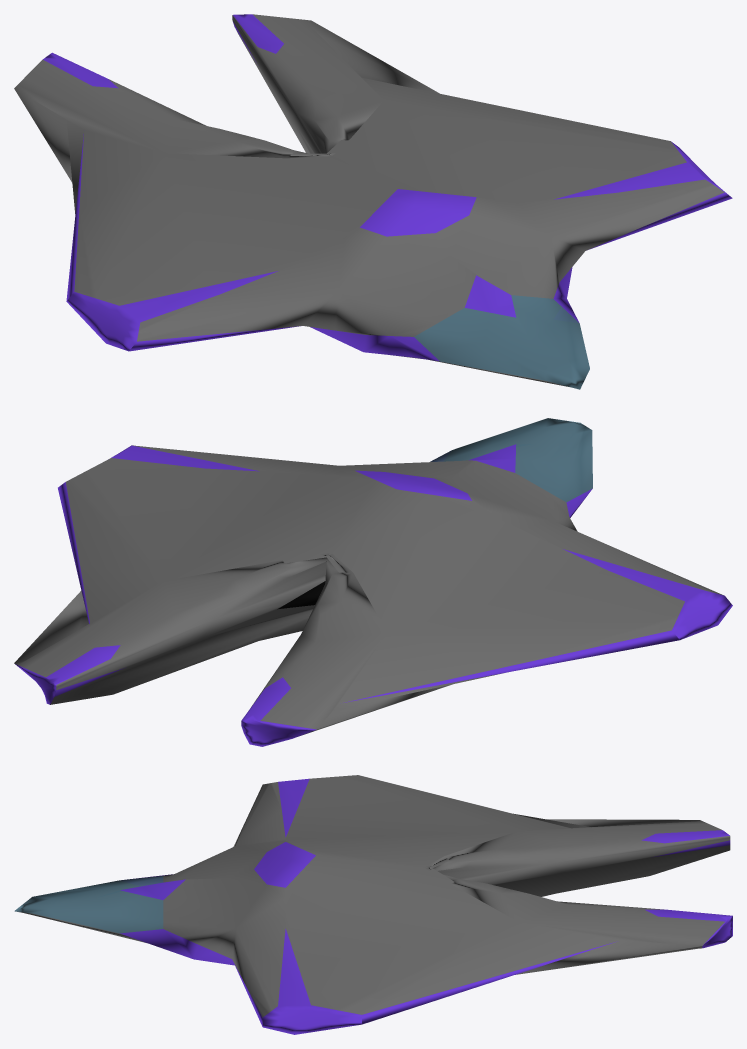
The model's file is FighterBlue.fbx.
3 views of the same model, one above another, from view 1: azimuth 30°, elevation 25°; view 2: azimuth 150°, elevation 25°; view 3: azimuth 270°, elevation 25° (orthographic). The views are drawn at different scales.
Parts seen in each view (by area): view 1: pCube1; view 2: pCube1; view 3: pCube1.
Boxes of the visible parts, x1,y1,x2,y2 form: pCube1: (14, 14, 732, 389); pCube1: (14, 418, 732, 746); pCube1: (14, 775, 732, 1034).
Size of the model in its own units: 4.82 by 0.8789 by 5.88.
